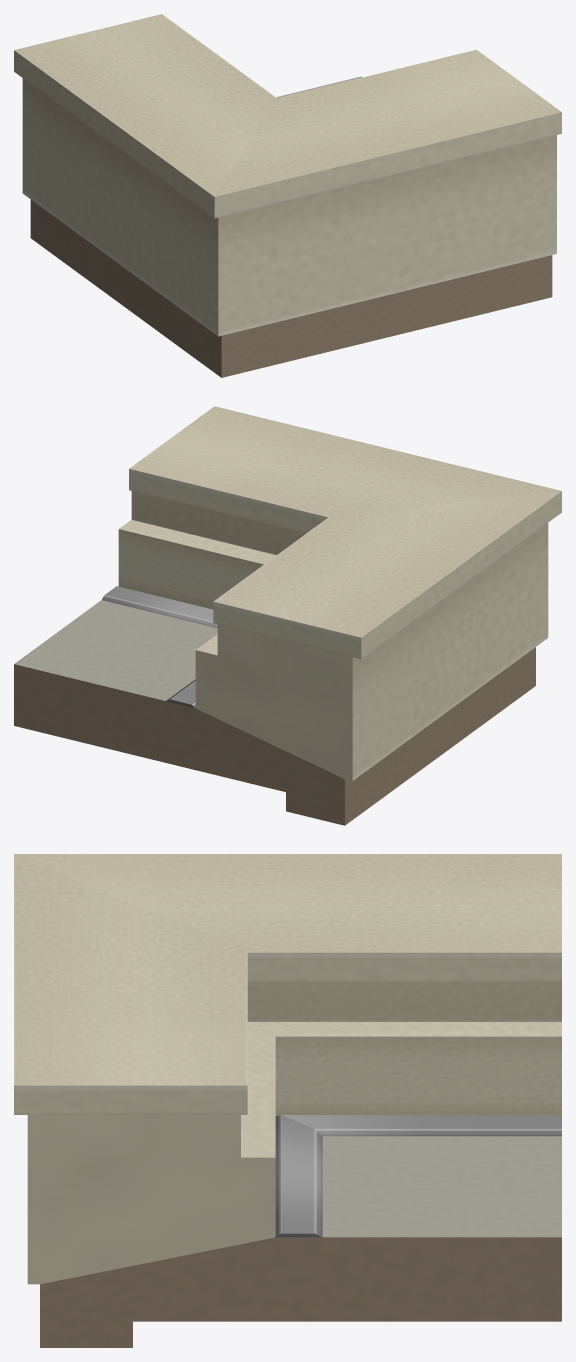
The model's file is set_roof_outside_a_corner.fbx.
The picture shows the model from 3 angles, top to bottom: view 1: azimuth 30°, elevation 25°; view 2: azimuth 150°, elevation 25°; view 3: azimuth 270°, elevation 25°; orthographic projection. The views are drawn at different scales.
Visible parts, largest first — view 1: set_roof_outside_a_corner; view 2: set_roof_outside_a_corner; view 3: set_roof_outside_a_corner.
Part boxes in pixels (box(x1,y1,x2,y2)): set_roof_outside_a_corner: box(14, 14, 561, 377); set_roof_outside_a_corner: box(14, 406, 561, 825); set_roof_outside_a_corner: box(14, 854, 561, 1347).
Size of the model in its own units: 229 by 121 by 229.
